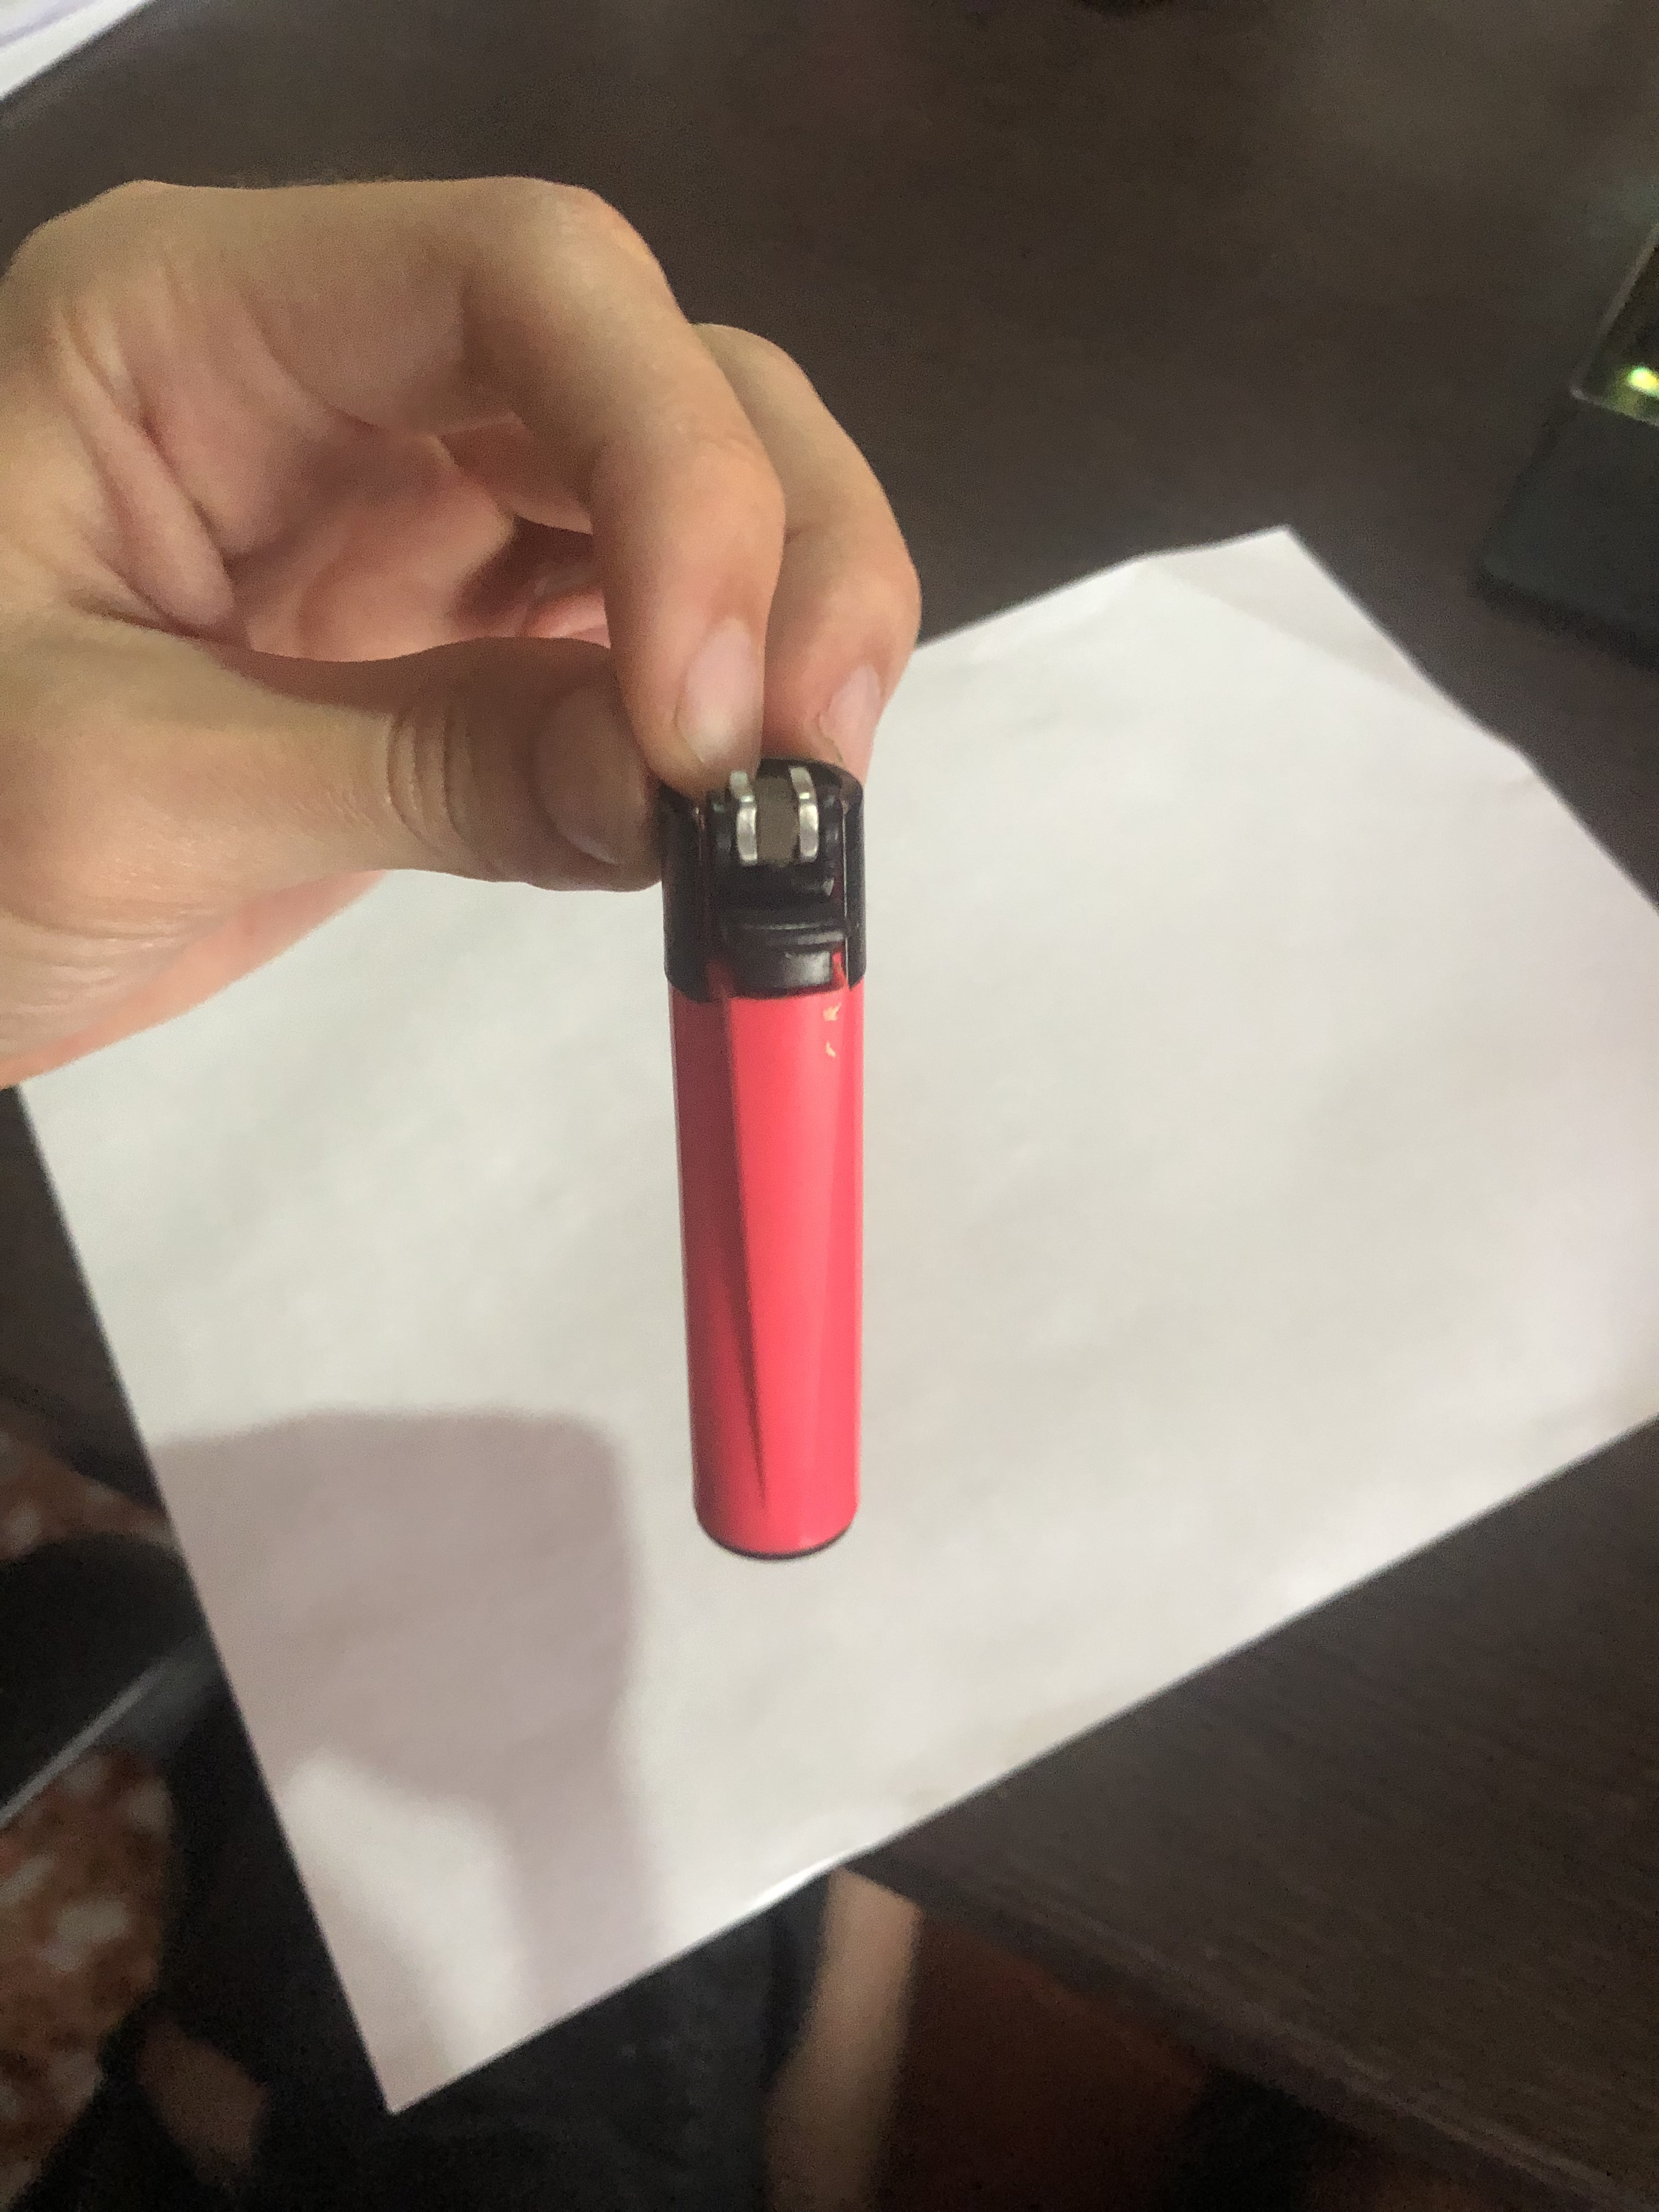Mechero: (648, 758, 885, 1564)
